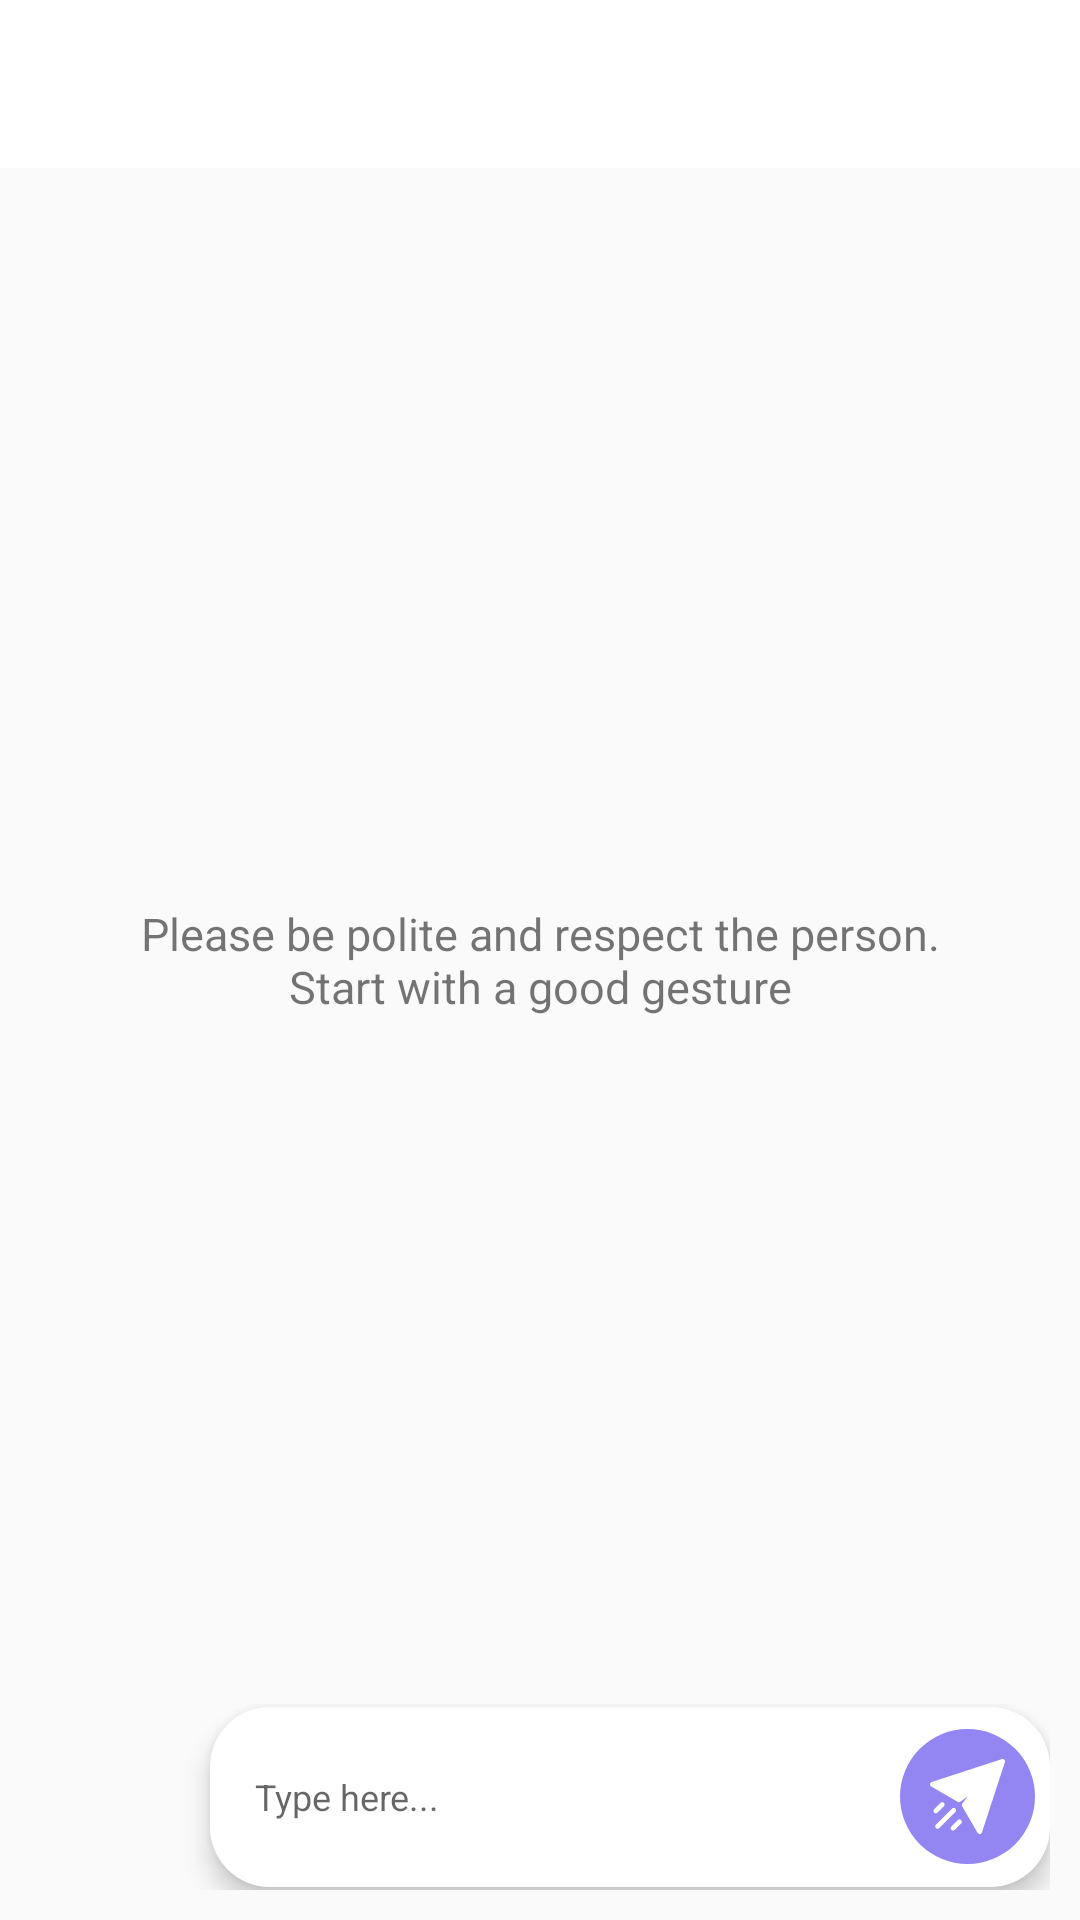

Icons on this 1080w x 1920h Android screen, each with its box as (x1, y1, x2, y2):
send message: (900, 1729, 1035, 1864)
